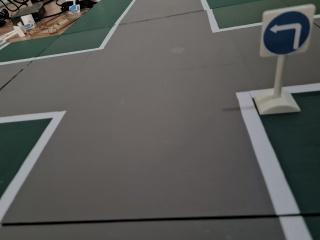left: (254, 1, 320, 60)
